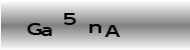5: (62, 12, 76, 25)
A: (104, 24, 121, 38)
G: (26, 22, 41, 35)
a: (41, 26, 53, 36)
n: (88, 23, 101, 33)
